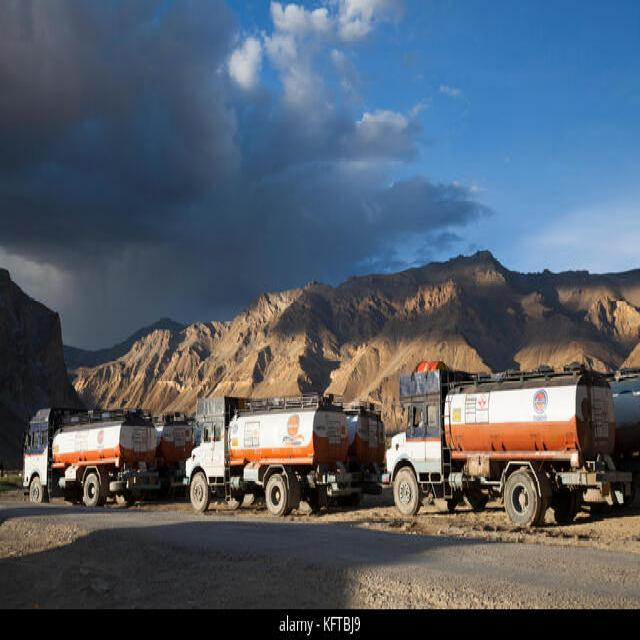truck: (385, 369, 631, 524), (185, 394, 349, 514), (22, 408, 160, 506)
